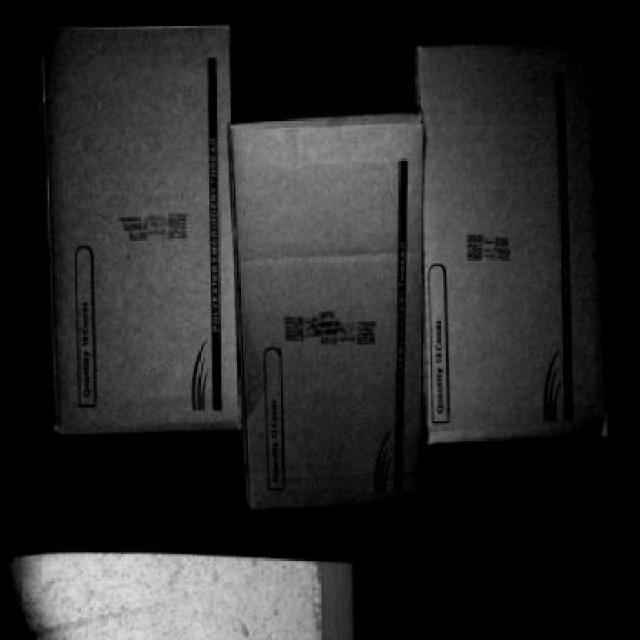cardboxes: (45, 23, 243, 431), (422, 48, 610, 432), (230, 123, 419, 495)
